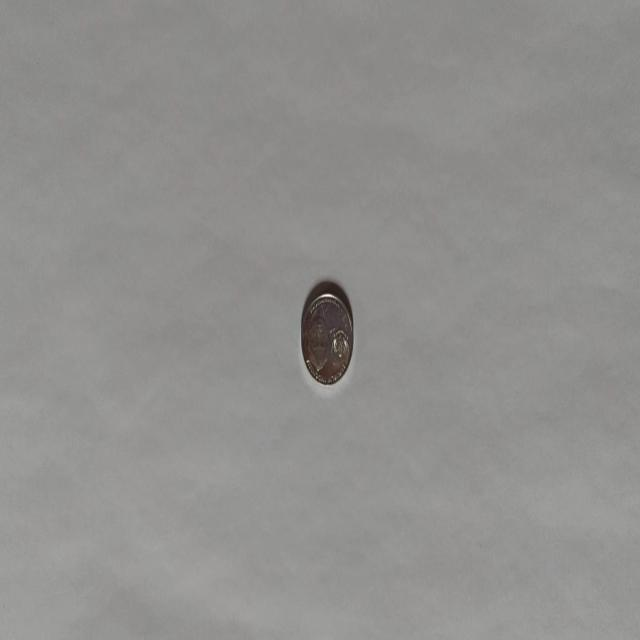dua ratus rupiah: (300, 281, 354, 386)
